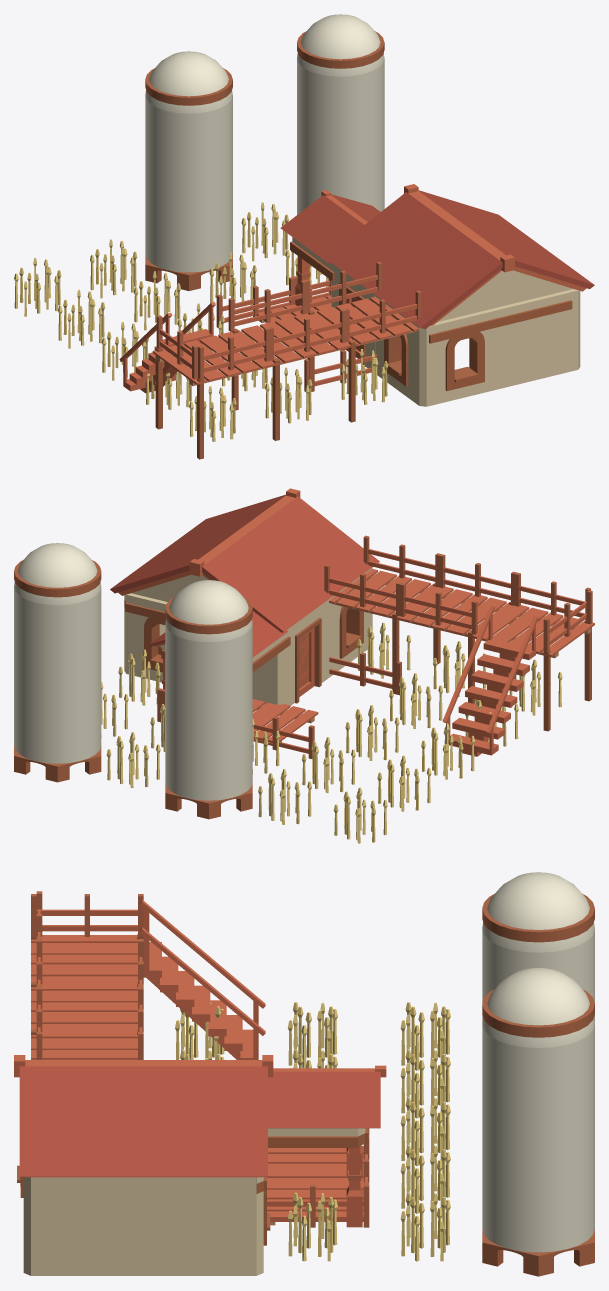
File: ferme.glb
The picture shows the model from 3 angles, top to bottom: view 1: azimuth 30°, elevation 25°; view 2: azimuth 150°, elevation 25°; view 3: azimuth 270°, elevation 25°; orthographic projection. The views are drawn at different scales.
Parts seen in each view (by area): view 1: mergedBlocks(Clone); view 2: mergedBlocks(Clone); view 3: mergedBlocks(Clone).
Boxes of the visible parts, x1=… form: mergedBlocks(Clone): x1=14, y1=14, x2=594, y2=459; mergedBlocks(Clone): x1=14, y1=488, x2=594, y2=843; mergedBlocks(Clone): x1=14, y1=872, x2=594, y2=1276.
Bounding box in the file's own units: 5.2 × 2.7 × 5.15.
Materials: 1 (1 with a texture image).
